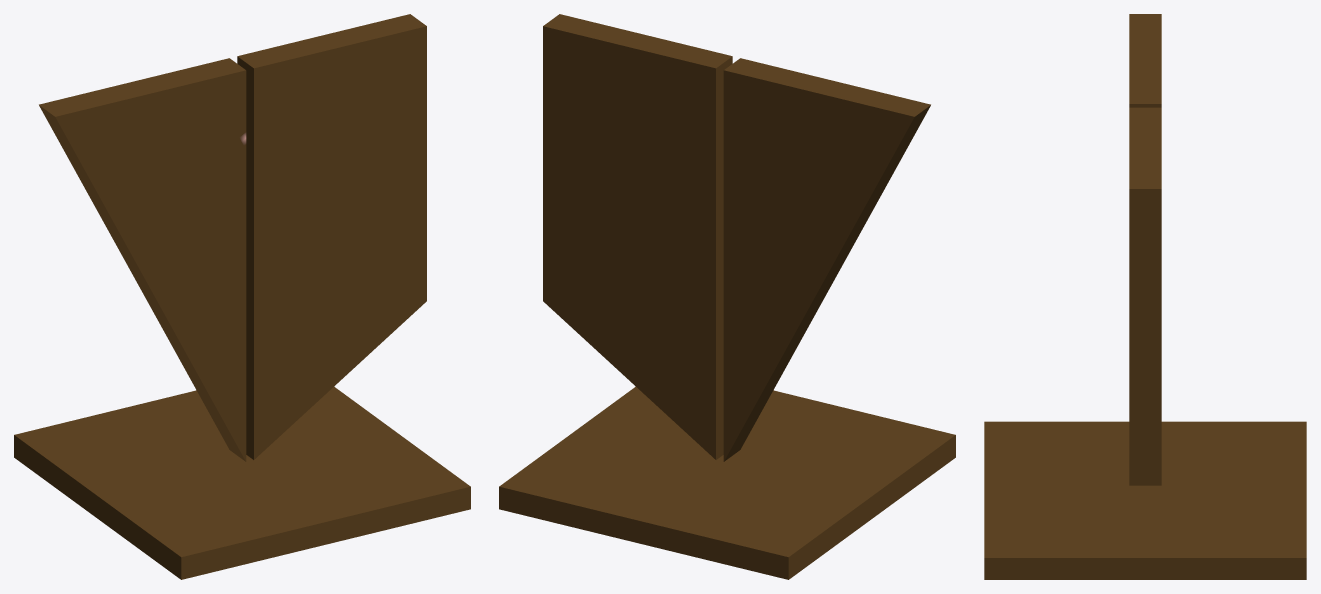
Rendered from Statue.fbx.
3 renders of one model, left to right at view 1: azimuth 30°, elevation 25°; view 2: azimuth 150°, elevation 25°; view 3: azimuth 270°, elevation 25°, orthographic. The views are drawn at different scales.
Parts seen in each view (by area): view 1: Cube; view 2: Cube; view 3: Cube.
Boxes of the visible parts, x1,y1,x2,y2 form: Cube: (14,14,470,579); Cube: (499,14,955,579); Cube: (984,14,1306,579).
Size of the model in its own units: 170 by 184 by 132.
